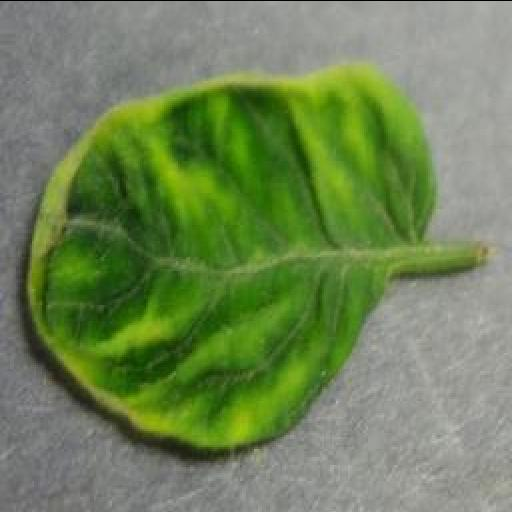disease_tomato: (21, 62, 439, 452)
